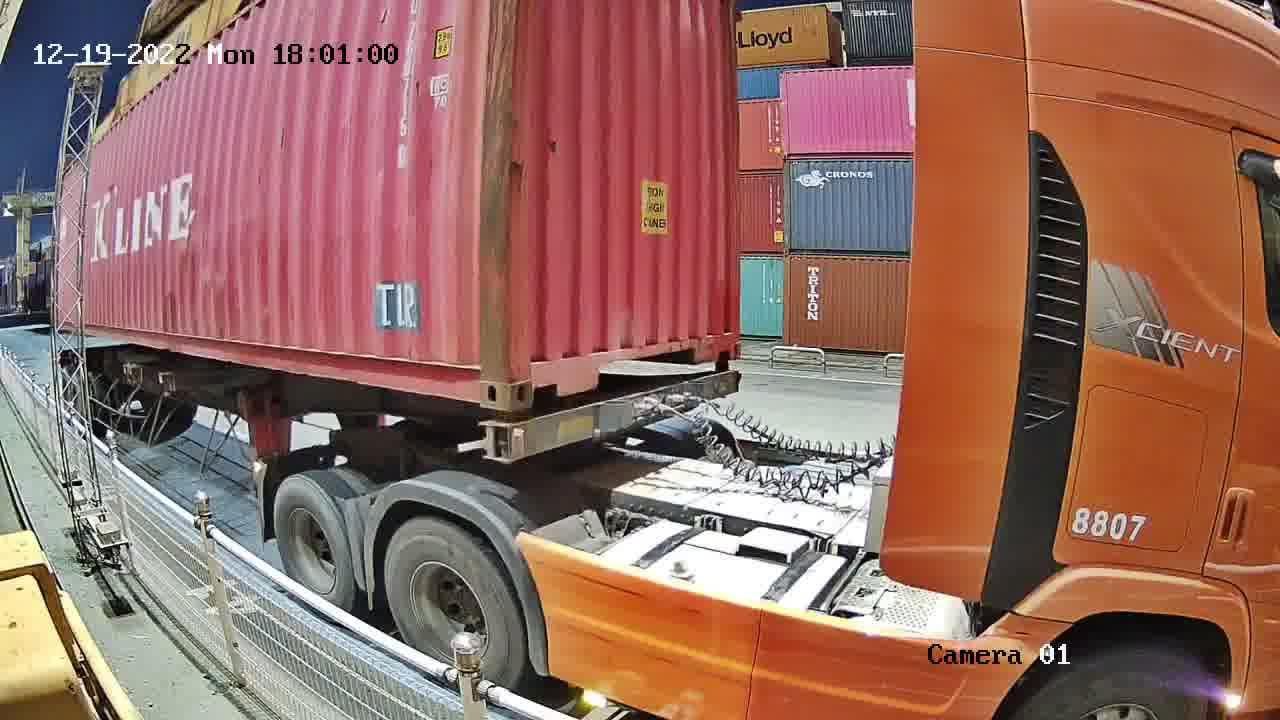Chassis: (483, 368, 738, 459)
Cone: (479, 425, 508, 461)
Hole_L: (507, 344, 562, 411)
Hole_R: (446, 340, 506, 411), (707, 315, 742, 362)
Tire: (383, 520, 523, 684), (273, 479, 351, 609)
